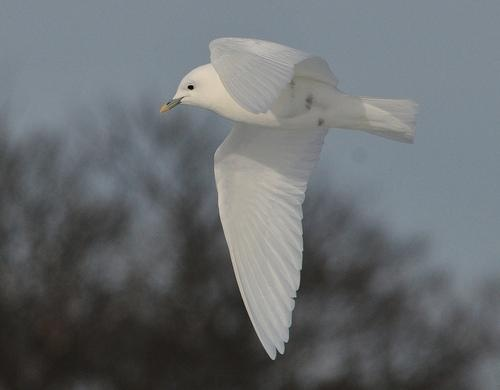bird: (159, 35, 419, 360)
